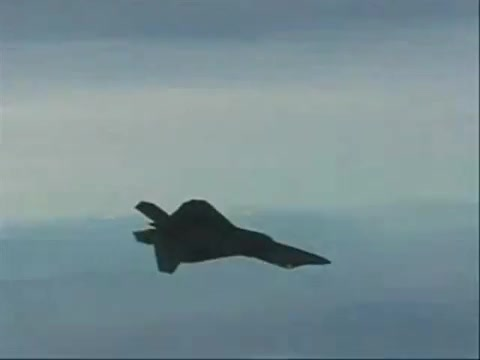aeroplane: (133, 198, 334, 276)
